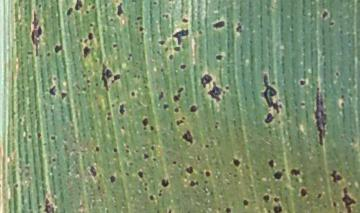tarspot: (257, 69, 283, 112), (312, 84, 328, 149), (29, 8, 44, 59), (170, 26, 193, 47), (206, 81, 225, 106), (340, 184, 356, 213), (100, 63, 111, 93), (41, 195, 59, 213), (171, 84, 185, 104), (199, 71, 213, 88), (112, 1, 125, 19), (329, 168, 342, 185), (209, 18, 226, 30), (182, 129, 194, 146), (261, 112, 276, 125), (86, 164, 98, 178), (47, 83, 57, 99), (230, 156, 243, 168), (233, 20, 245, 33), (185, 164, 197, 177), (81, 45, 90, 62), (160, 176, 171, 189), (273, 170, 283, 184), (318, 8, 329, 20), (289, 167, 302, 177), (117, 102, 126, 116), (213, 51, 224, 62), (53, 42, 63, 54), (46, 132, 59, 141), (272, 203, 283, 213), (178, 62, 188, 73), (175, 118, 186, 128), (299, 186, 307, 199), (73, 1, 83, 11), (188, 179, 199, 188), (297, 78, 307, 87), (189, 104, 198, 114), (172, 45, 182, 54), (267, 157, 275, 168), (204, 168, 212, 179), (109, 174, 117, 185), (136, 169, 144, 180), (262, 192, 269, 204), (64, 7, 71, 19), (87, 31, 94, 43), (180, 16, 189, 25), (298, 100, 308, 108), (141, 116, 149, 126), (141, 153, 151, 161), (161, 12, 169, 22), (333, 69, 340, 80), (157, 90, 164, 101), (213, 120, 220, 131), (126, 52, 133, 63), (338, 101, 347, 109), (158, 65, 167, 73), (331, 199, 338, 209), (157, 39, 167, 46), (150, 1, 160, 8), (106, 110, 111, 123), (241, 197, 249, 205), (135, 14, 143, 22), (50, 156, 58, 164), (328, 19, 335, 28), (111, 146, 118, 155), (148, 193, 155, 202), (111, 41, 118, 50), (132, 72, 141, 79), (223, 206, 231, 213), (60, 91, 67, 99), (129, 90, 137, 97), (113, 73, 120, 81), (35, 131, 42, 139), (125, 144, 129, 157), (273, 196, 280, 203), (93, 145, 100, 152), (157, 191, 164, 198), (171, 159, 178, 166), (162, 103, 169, 110), (133, 148, 140, 155), (149, 124, 155, 132), (149, 144, 155, 152), (151, 156, 159, 162), (168, 54, 176, 60), (173, 106, 179, 114), (88, 21, 94, 29), (316, 192, 322, 199), (340, 93, 346, 100), (203, 143, 210, 149), (166, 206, 172, 213), (137, 25, 143, 32), (26, 133, 32, 140), (128, 160, 134, 167), (119, 124, 125, 131), (94, 81, 99, 89), (45, 51, 51, 57), (52, 75, 58, 81), (81, 73, 87, 79), (91, 4, 97, 10), (124, 171, 131, 176), (83, 9, 90, 14), (143, 186, 148, 192), (142, 126, 147, 132), (110, 103, 116, 108), (96, 185, 102, 190), (143, 180, 147, 187), (85, 79, 91, 83), (87, 2, 92, 6), (143, 85, 147, 90)
